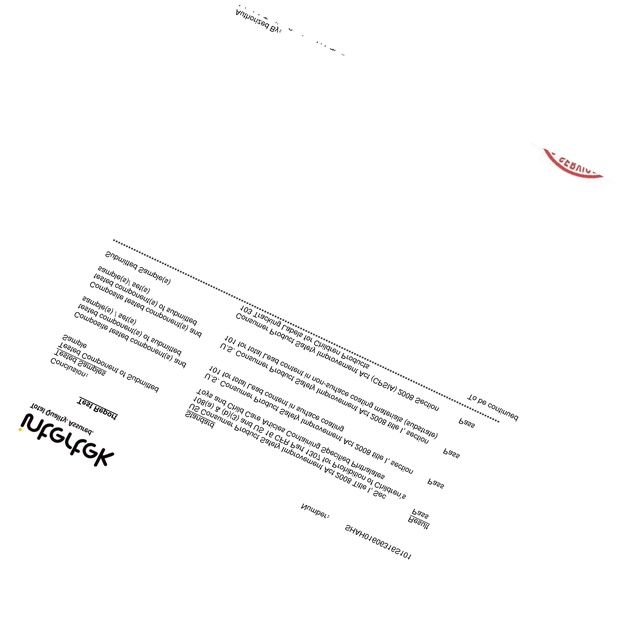intertek: (12, 408, 115, 471)
